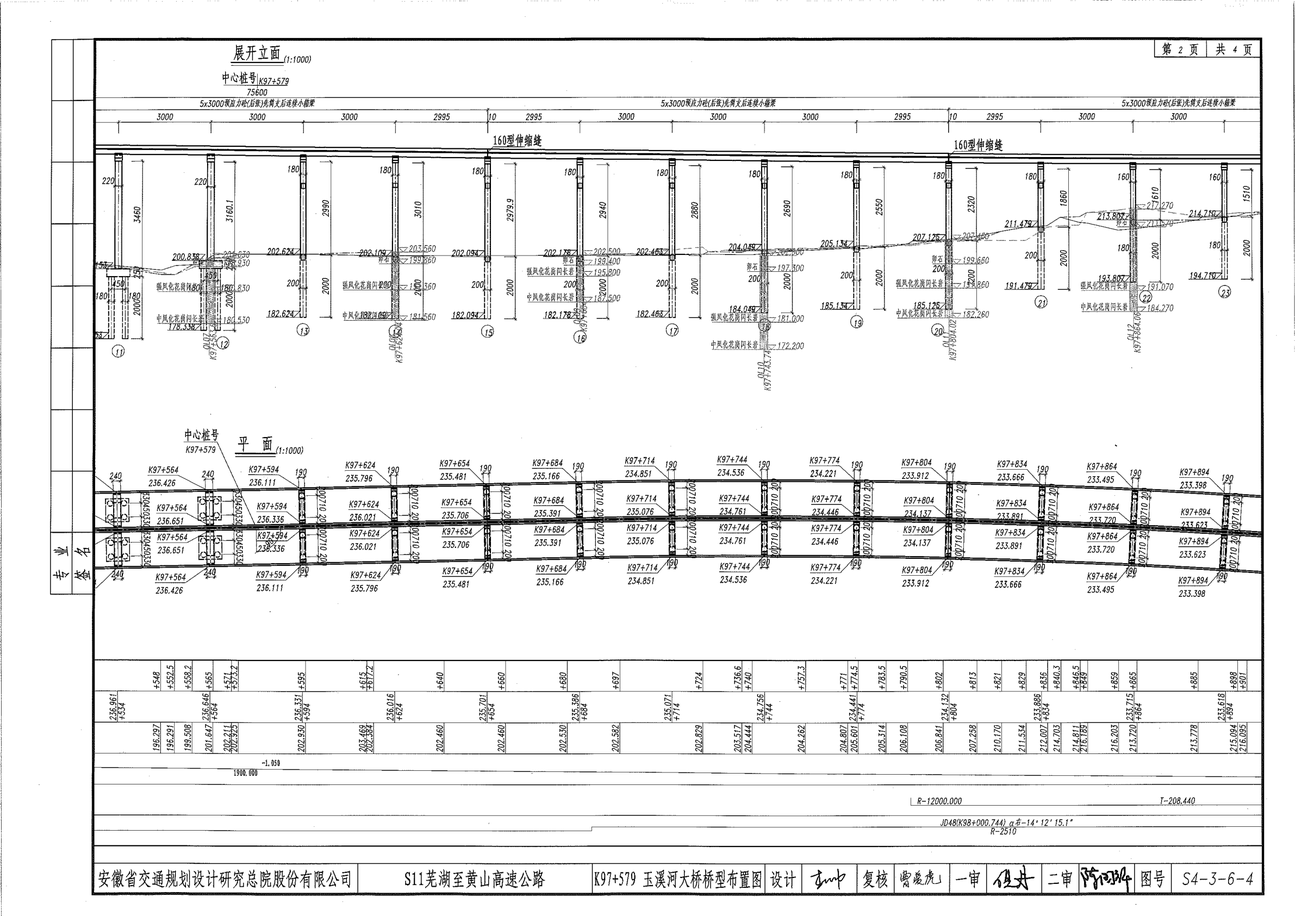A: (79, 44, 1277, 363)
